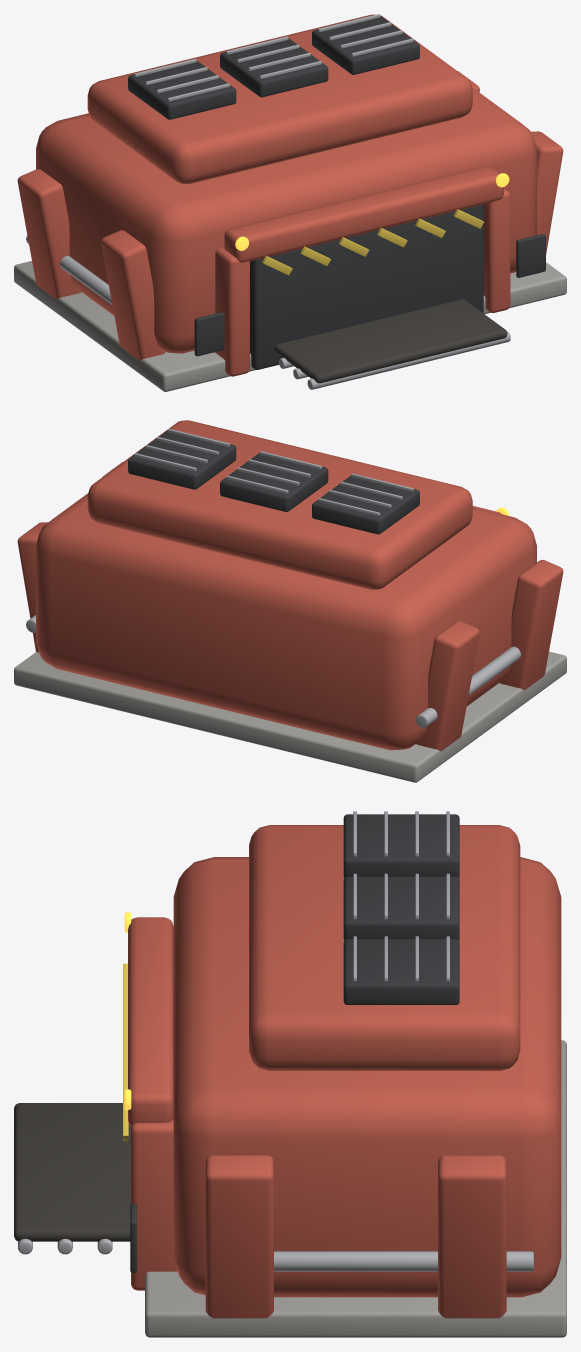
Rendered from building_robot.glb.
The picture shows the model from 3 angles, top to bottom: view 1: azimuth 30°, elevation 25°; view 2: azimuth 150°, elevation 25°; view 3: azimuth 270°, elevation 25°; orthographic projection. The views are drawn at different scales.
Parts seen in each view (by area): view 1: Cube.001, Cube.002, Cube.022, Cube.023, Belt, Cube, Cube.020, Cube.021, Cube.026, Cube.008, Cube.003, Cube.013 (+6 smaller); view 2: Cube.001, Cube.002, Cube, Cube.020, Cube.021, Cube.008, Cube.013, Cube.003, Cube.019, Cylinder.001; view 3: Cube.001, Cube.002, Cube, Belt, Cube.019, Cube.018, Cube.023, Cube.013, Cube.003, Cube.008, Cube.024, Cylinder.
Boxes of the visible parts, bbox=[...] form: Cube.001: bbox=[36, 87, 536, 353]; Cube.002: bbox=[87, 14, 472, 184]; Cube.022: bbox=[250, 204, 483, 369]; Cube.023: bbox=[224, 166, 503, 262]; Belt: bbox=[274, 299, 507, 383]; Cube: bbox=[14, 261, 566, 391]; Cube.020: bbox=[101, 230, 165, 360]; Cube.021: bbox=[17, 169, 80, 299]; Cube.026: bbox=[215, 247, 249, 376]; Cube.008: bbox=[220, 38, 328, 97]; Cube.003: bbox=[128, 61, 236, 119]; Cube.013: bbox=[312, 16, 419, 74]; Cube.001: bbox=[36, 493, 536, 750]; Cube.002: bbox=[87, 420, 472, 589]; Cube: bbox=[14, 651, 566, 782]; Cube.020: bbox=[499, 559, 563, 690]; Cube.021: bbox=[416, 621, 479, 751]; Cube.008: bbox=[220, 453, 328, 511]; Cube.013: bbox=[128, 430, 236, 489]; Cube.003: bbox=[312, 475, 419, 534]; Cube.019: bbox=[17, 522, 47, 652]; Cylinder.001: bbox=[416, 646, 520, 727]; Cube.001: bbox=[173, 857, 561, 1297]; Cube.002: bbox=[249, 825, 520, 1070]; Cube: bbox=[145, 1040, 566, 1337]; Belt: bbox=[14, 1103, 130, 1241]; Cube.019: bbox=[438, 1155, 506, 1318]; Cube.018: bbox=[205, 1155, 273, 1318]; Cube.023: bbox=[128, 917, 173, 1126]; Cube.013: bbox=[343, 939, 459, 1004]; Cube.003: bbox=[343, 814, 459, 878]; Cube.008: bbox=[343, 876, 459, 940]; Cube.024: bbox=[131, 1119, 177, 1290]; Cylinder: bbox=[274, 1251, 533, 1271].
Bounding box in the file's own units: 6.23 × 2.97 × 4.85.
